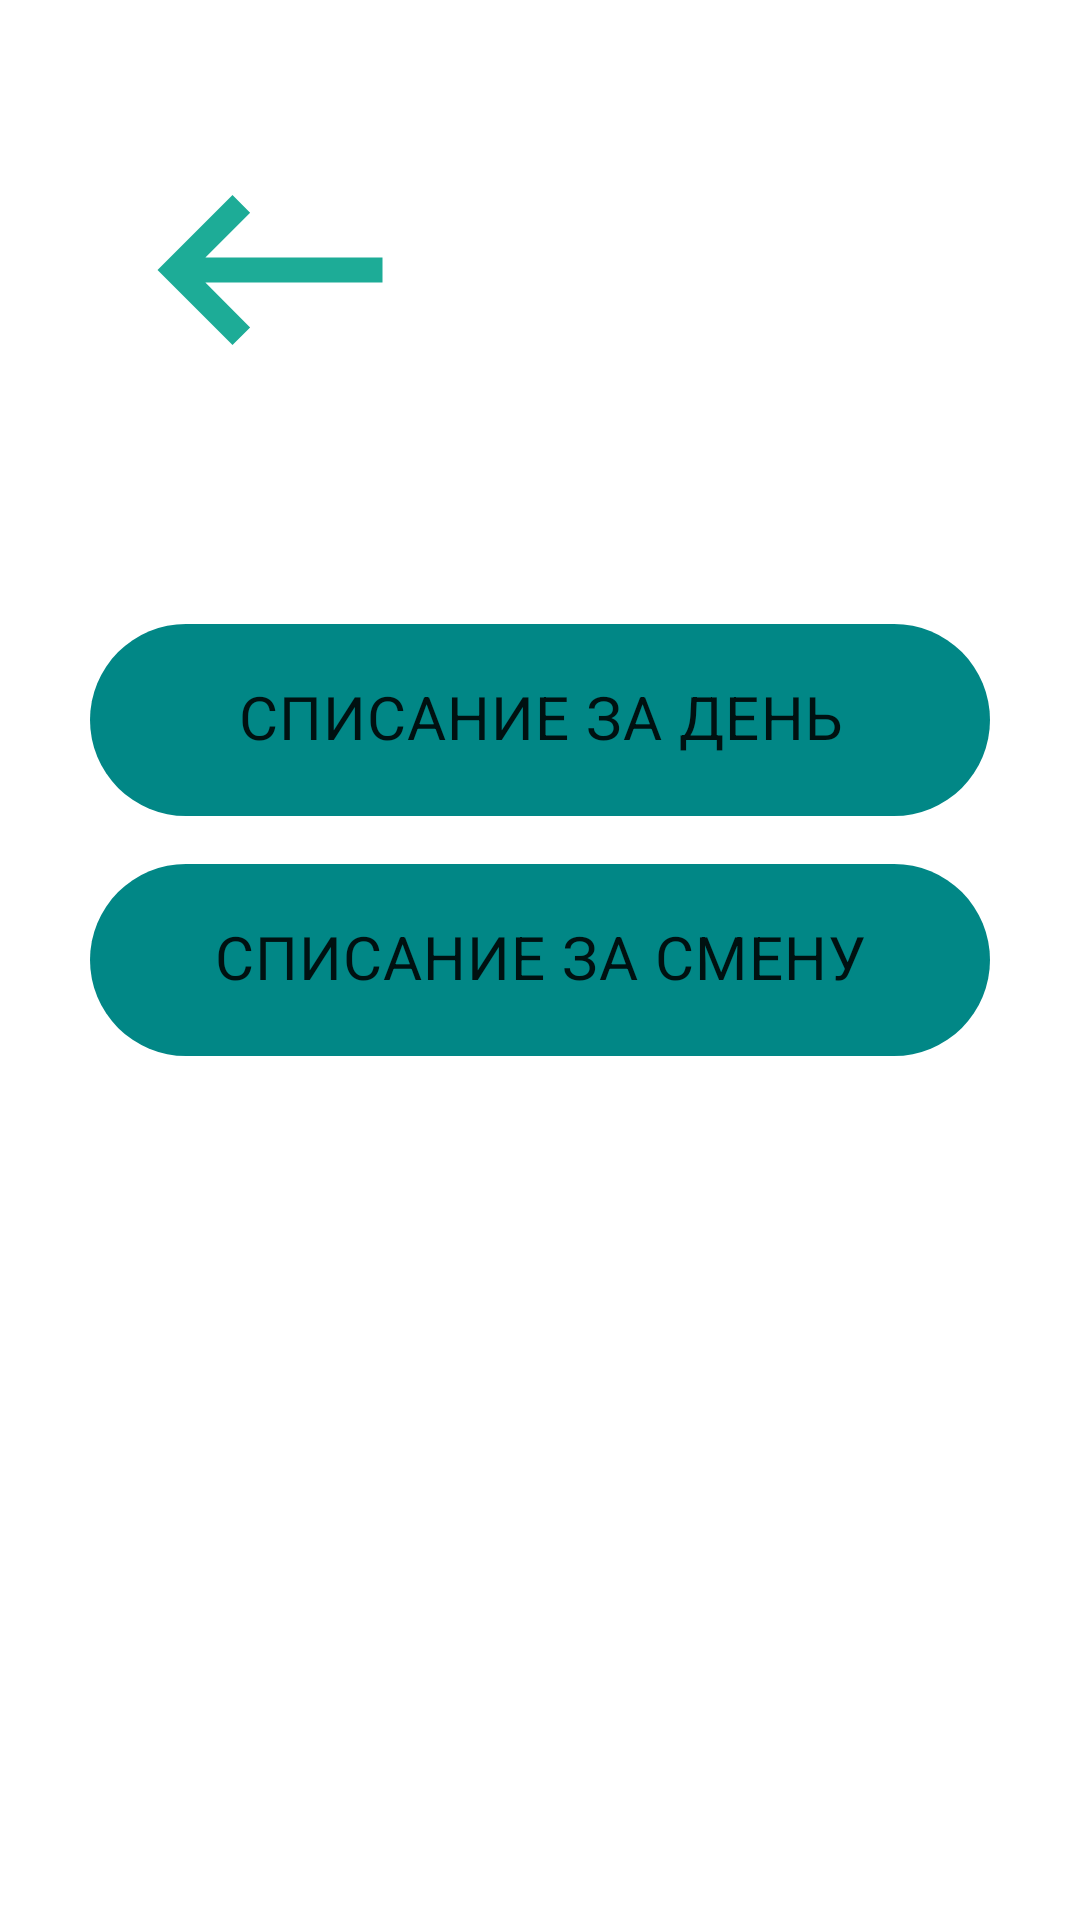

Locate icon controls on the screen. Image size 1080 × 1920, boxes as (x1, y1, x2, y2).
keyboard backspace: (157, 195, 383, 345)
